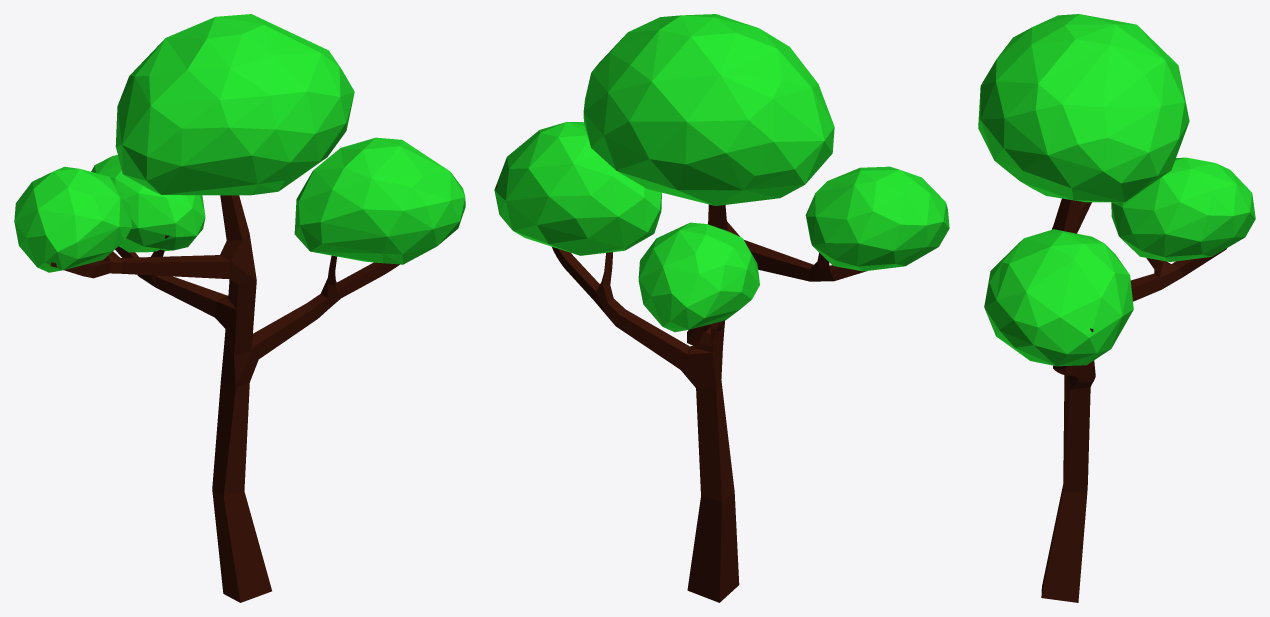
File: tree3_v2.fbx
The picture shows the model from 3 angles, left to right: view 1: azimuth 30°, elevation 25°; view 2: azimuth 150°, elevation 25°; view 3: azimuth 270°, elevation 25°; orthographic projection. The views are drawn at different scales.
Parts seen in each view (by area): view 1: Icosphere.001, Plane; view 2: Icosphere.001, Plane; view 3: Icosphere.001, Plane.
Boxes of the visible parts, x1,y1,x2,y2 form: Icosphere.001: (14, 14, 465, 272); Plane: (50, 195, 399, 602); Icosphere.001: (494, 14, 949, 332); Plane: (496, 184, 866, 602); Icosphere.001: (978, 14, 1255, 366); Plane: (1041, 198, 1226, 602).
Bounding box in the file's own units: 1000 × 1256 × 552.
